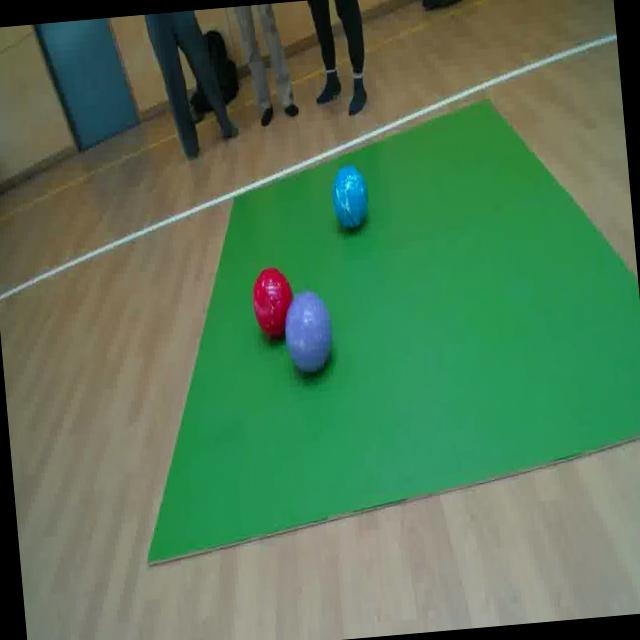blue_ball: (332, 165, 371, 230)
purple_ball: (280, 290, 336, 378)
red_ball: (250, 268, 298, 338)
